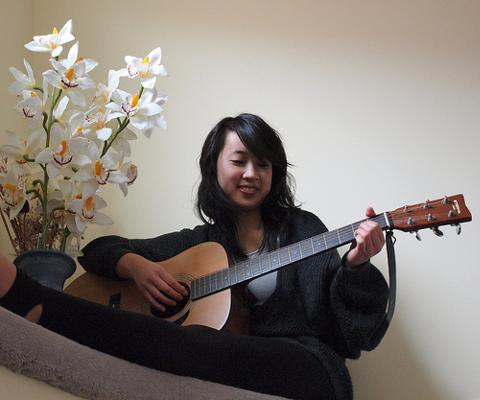person: (80, 113, 390, 399)
